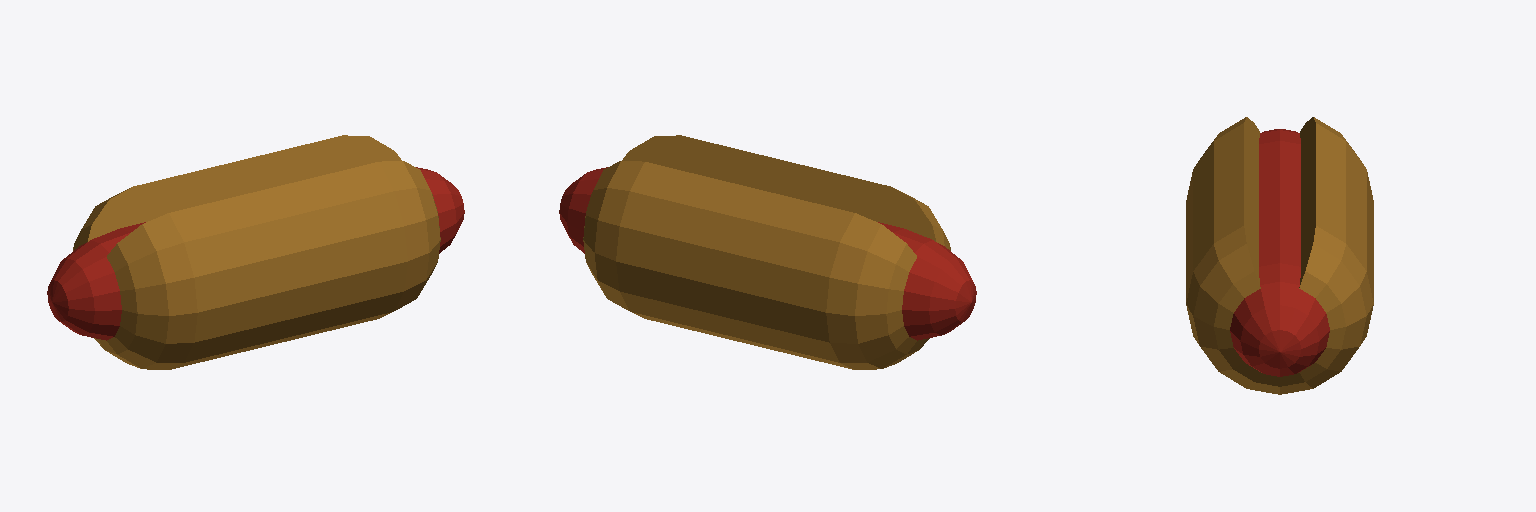
File: hotdog.obj
3 renders of one model, left to right at view 1: azimuth 30°, elevation 25°; view 2: azimuth 150°, elevation 25°; view 3: azimuth 270°, elevation 25°, orthographic.
Visible parts, largest first — view 1: Hotdog_Sphere.007; view 2: Hotdog_Sphere.007; view 3: Hotdog_Sphere.007.
Boxes of the visible parts, x1,y1,x2,y2 form: Hotdog_Sphere.007: [47, 135, 464, 369]; Hotdog_Sphere.007: [559, 135, 976, 369]; Hotdog_Sphere.007: [1186, 117, 1373, 394].
Bounding box in the file's own units: 17.56 × 6.74 × 7.